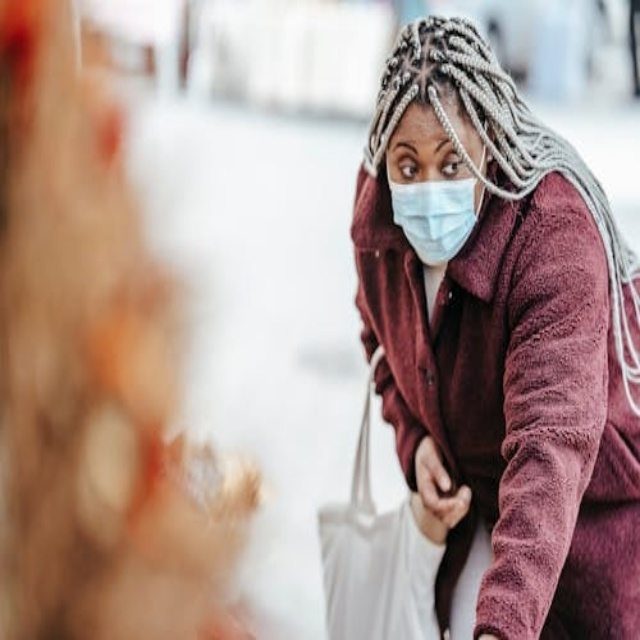Mascara: (389, 160, 483, 264)
Sin_gafas: (385, 135, 468, 177)
Sin_guantes: (413, 433, 474, 541)
